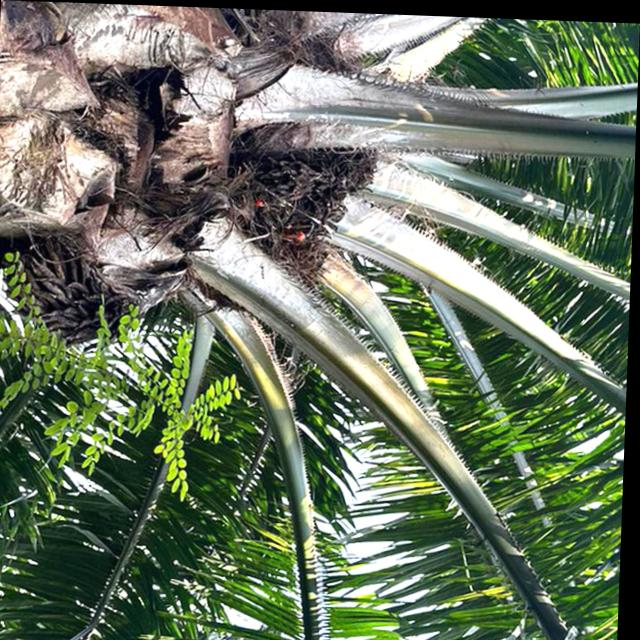ripe: (230, 147, 376, 286)
